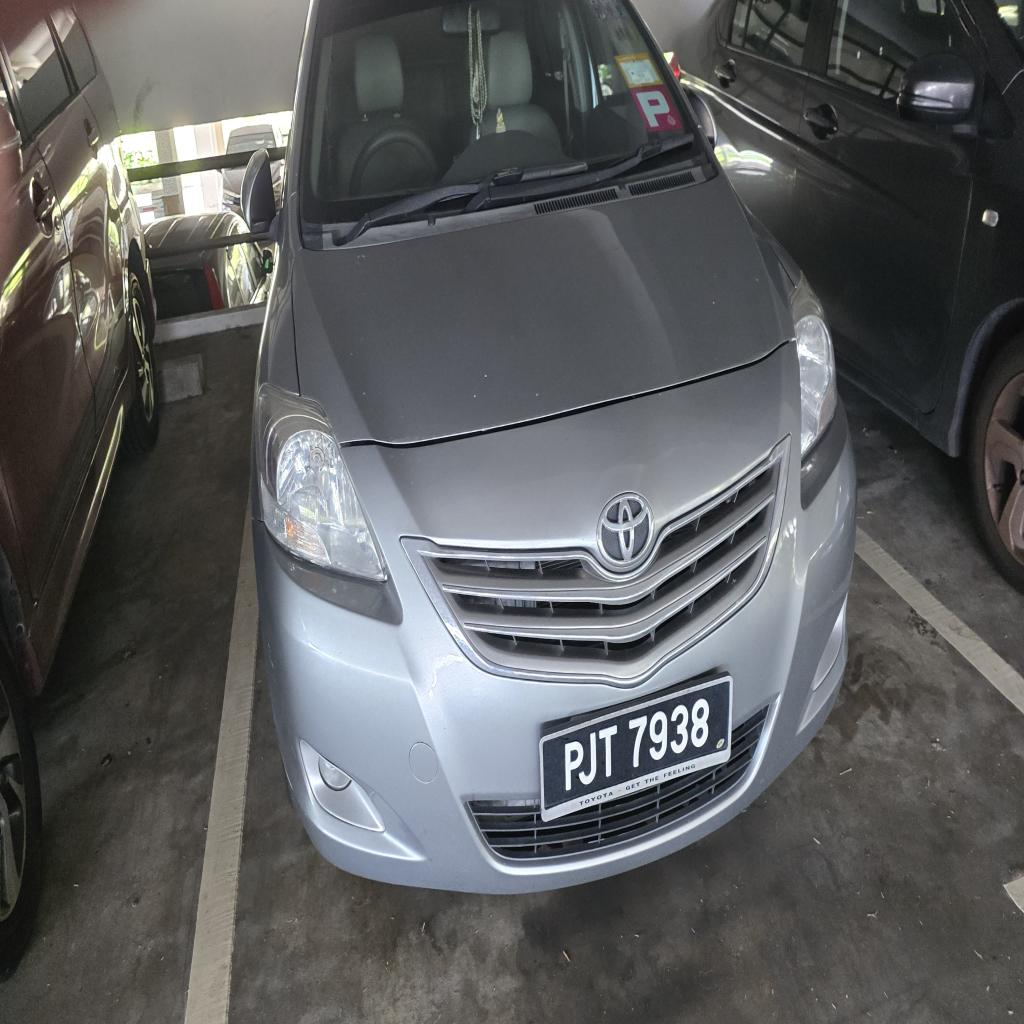car: (243, 0, 855, 891)
car plate: (540, 677, 732, 821)
